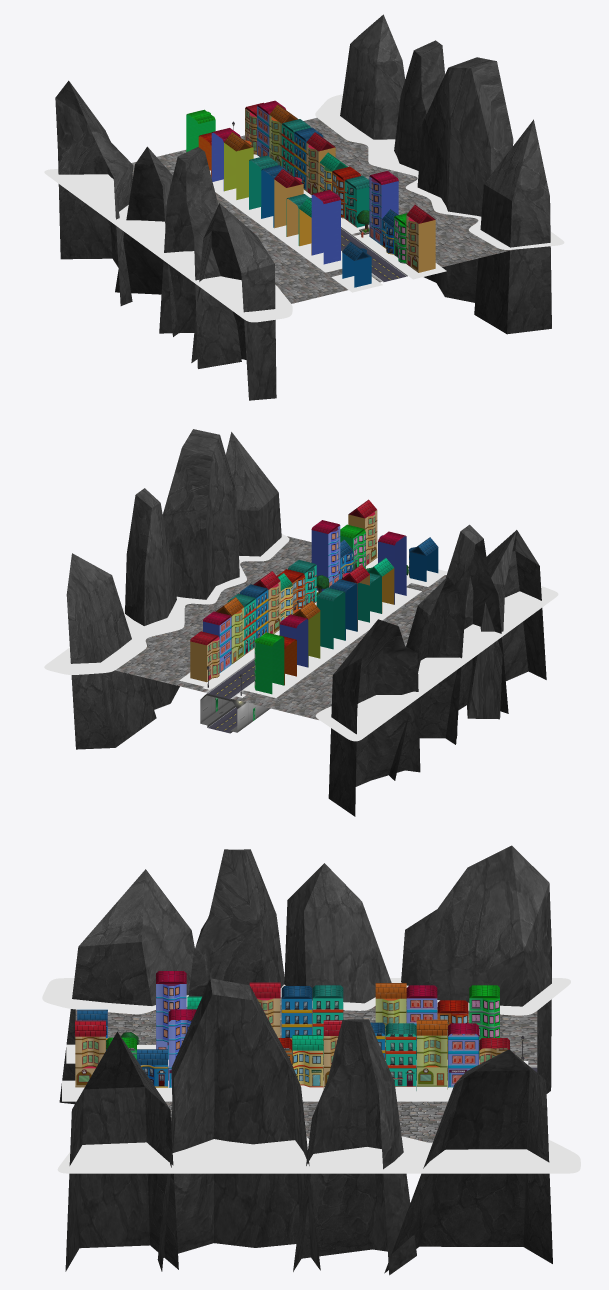
The model's file is City_14.fbx.
3 renders of one model, top to bottom at view 1: azimuth 30°, elevation 25°; view 2: azimuth 150°, elevation 25°; view 3: azimuth 270°, elevation 25°, orthographic. The views are drawn at different scales.
Visible parts, largest first — view 1: City_14; view 2: City_14; view 3: City_14.
Boxes of the visible parts, left/top/right/bottom form: City_14: left=44, top=14, right=564, bottom=400; City_14: left=44, top=429, right=558, bottom=816; City_14: left=42, top=845, right=580, bottom=1275.
Bounding box in the file's own units: 22617 × 13384 × 25170.
Materials: 12 (12 with a texture image).
